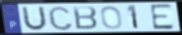1: (126, 4, 140, 31)
B: (72, 6, 99, 31)
C: (47, 5, 75, 32)
E: (149, 3, 176, 31)
O: (99, 5, 124, 30)
U: (21, 5, 48, 32)
